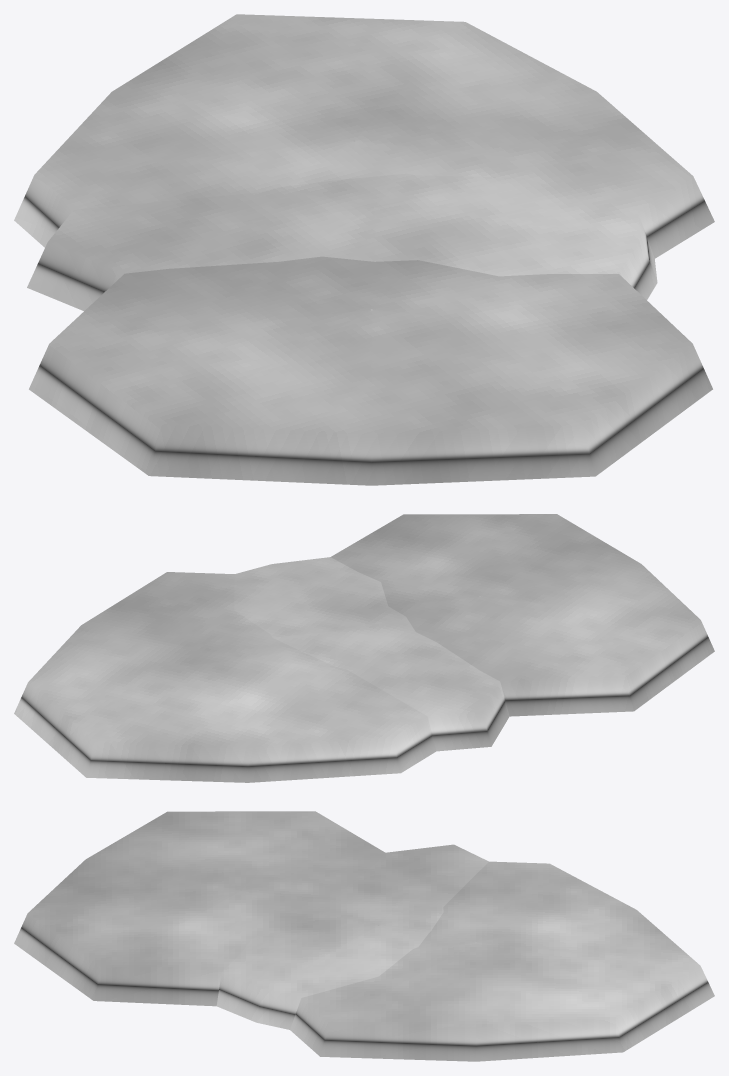
The model's file is path-1.glb.
3 renders of one model, top to bottom at view 1: azimuth 30°, elevation 25°; view 2: azimuth 150°, elevation 25°; view 3: azimuth 270°, elevation 25°, orthographic. The views are drawn at different scales.
Parts seen in each view (by area): view 1: path-1; view 2: path-1; view 3: path-1.
Part boxes in pixels (x1,y1,x2,y2): path-1: [14, 14, 714, 485]; path-1: [14, 514, 714, 782]; path-1: [14, 811, 714, 1061].
Size of the model in its own units: 0.7481 by 0.055 by 0.9774.
Materials: 1 (1 with a texture image).
